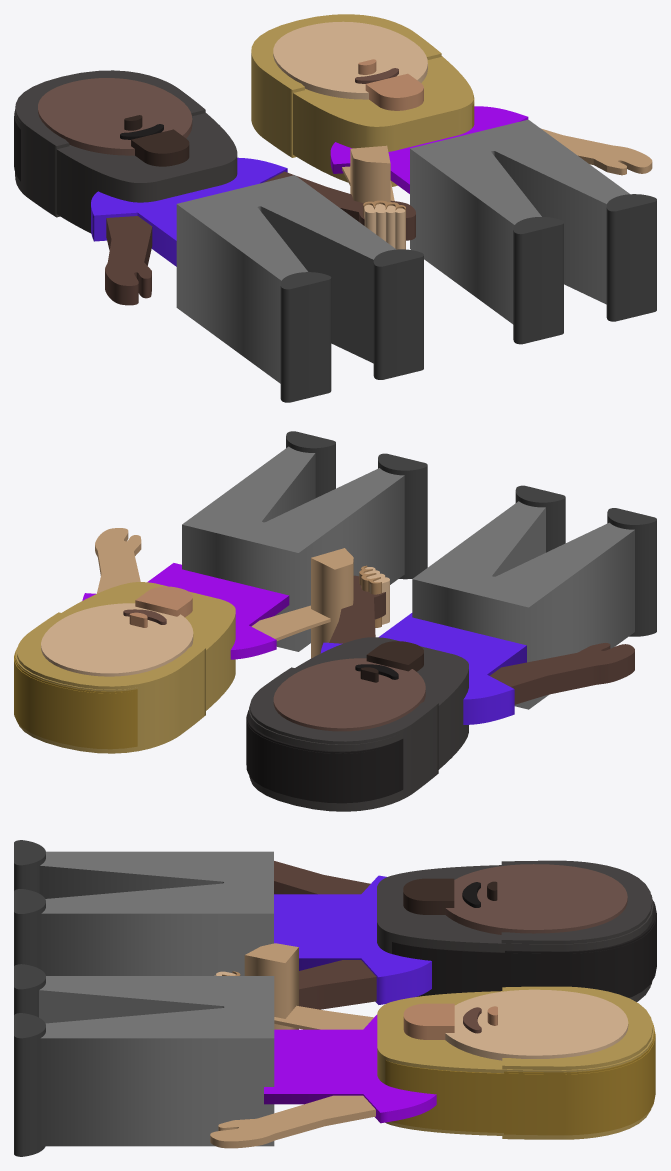
Rendered from emoji_u1f469_1f3ff_200d_1f91d_200d_1f469_1f3fc.glb.
3 renders of one model, top to bottom at view 1: azimuth 30°, elevation 25°; view 2: azimuth 150°, elevation 25°; view 3: azimuth 270°, elevation 25°, orthographic. The views are drawn at different scales.
Visible parts, largest first — view 1: emoji_u1f469_1f3ff_200d_1f91d_200d_1f469_1f3fc; view 2: emoji_u1f469_1f3ff_200d_1f91d_200d_1f469_1f3fc; view 3: emoji_u1f469_1f3ff_200d_1f91d_200d_1f469_1f3fc.
Part boxes in pixels (x1,y1,x2,y2): emoji_u1f469_1f3ff_200d_1f91d_200d_1f469_1f3fc: (14,14,656,402); emoji_u1f469_1f3ff_200d_1f91d_200d_1f469_1f3fc: (14,431,656,811); emoji_u1f469_1f3ff_200d_1f91d_200d_1f469_1f3fc: (14,840,656,1156).
Bounding box in the file's own units: 0.0346 × 0.007 × 0.0334.
